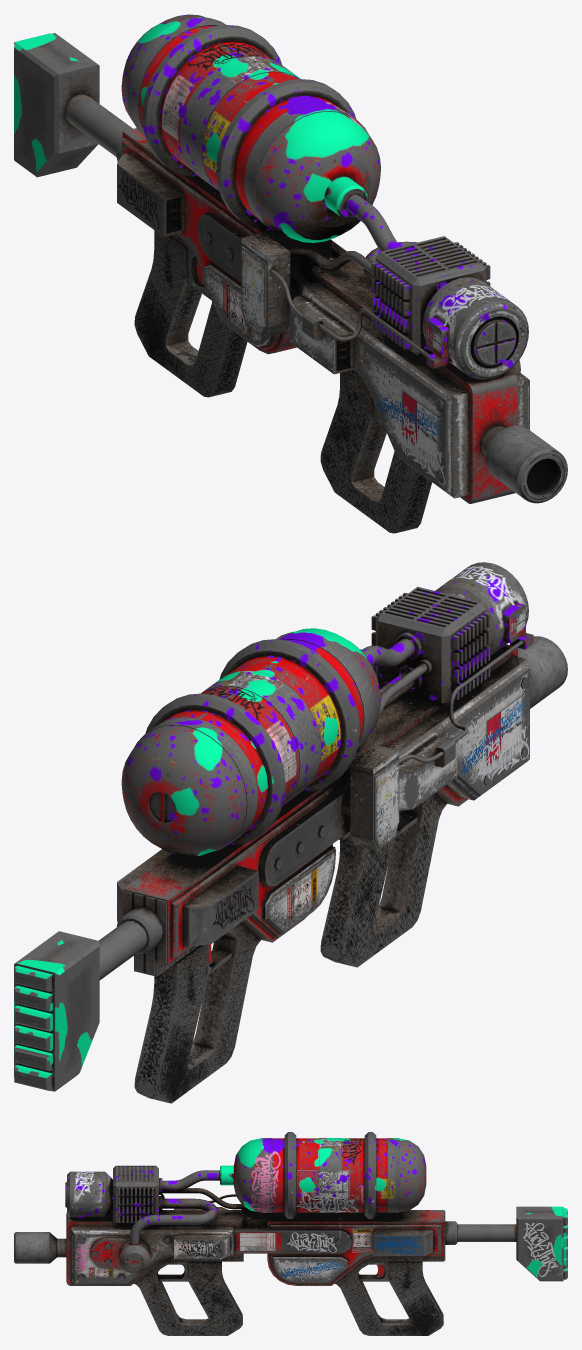
File: extinguisher.glb
3 renders of one model, top to bottom at view 1: azimuth 30°, elevation 25°; view 2: azimuth 150°, elevation 25°; view 3: azimuth 270°, elevation 25°, orthographic. The views are drawn at different scales.
Visible parts, largest first — view 1: fire_extinguisher_0; view 2: fire_extinguisher_0; view 3: fire_extinguisher_0.
Part boxes in pixels (box(x1,y1,x2,y2)): fire_extinguisher_0: box(14, 14, 567, 533); fire_extinguisher_0: box(14, 562, 567, 1103); fire_extinguisher_0: box(14, 1132, 567, 1335).
Size of the model in its own units: 0.7954 by 1.84 by 4.69.
Materials: 1 (1 with a texture image).
